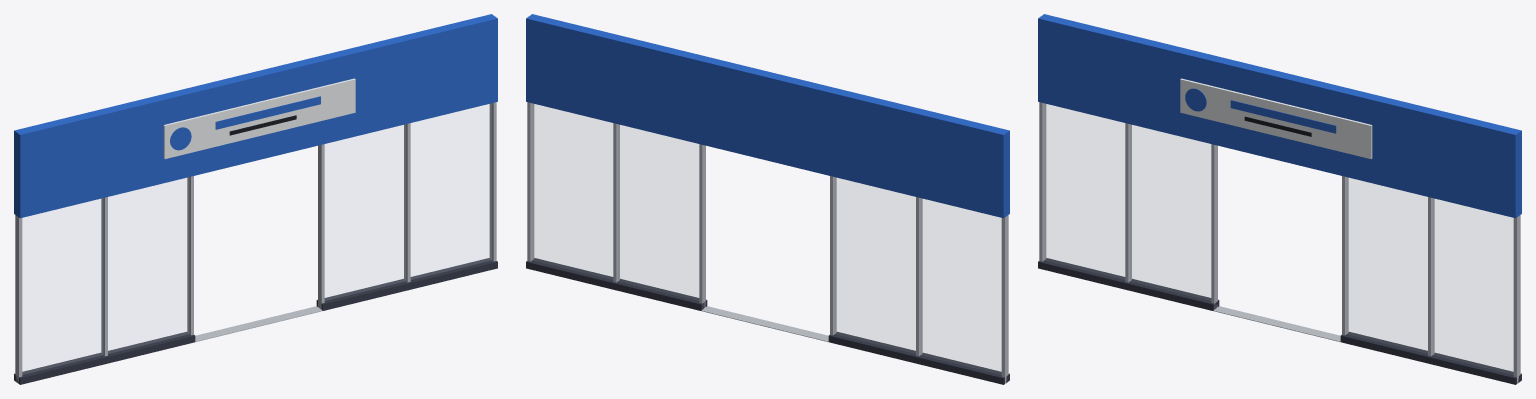
File: mal-007.glb
The picture shows the model from 3 angles, left to right: view 1: azimuth 30°, elevation 25°; view 2: azimuth 150°, elevation 25°; view 3: azimuth 330°, elevation 25°; orthographic projection.
Parts seen in each view (by area): view 1: fascia, glass_1_2, glass_2_1, glass_2_2, glass_1_1, sign_panel, riser_1, riser_2, mullion_1_1, mullion_2_3, mullion_2_1, mullion_2_2 (+4 smaller); view 2: fascia, glass_1_2, glass_2_1, glass_2_2, glass_1_1, riser_2, riser_1, mullion_1_1, mullion_2_3, mullion_2_1, mullion_2_2, mullion_1_2 (+2 smaller); view 3: fascia, glass_1_2, glass_2_1, glass_1_1, glass_2_2, sign_panel, riser_1, riser_2, mullion_2_3, mullion_1_1, mullion_1_3, mullion_1_2 (+4 smaller).
Boxes of the visible parts, x1,y1,x2,y2 form: fascia: [14, 14, 497, 218]; glass_1_2: [108, 178, 188, 353]; glass_2_1: [325, 125, 405, 300]; glass_2_2: [411, 104, 491, 279]; glass_1_1: [23, 199, 102, 373]; sign_panel: [163, 78, 355, 158]; riser_1: [14, 331, 195, 384]; riser_2: [316, 258, 497, 310]; mullion_1_1: [15, 215, 22, 382]; mullion_2_3: [489, 102, 496, 261]; mullion_2_1: [318, 144, 324, 309]; mullion_2_2: [404, 123, 410, 282]; fascia: [526, 14, 1009, 218]; glass_1_2: [835, 178, 915, 353]; glass_2_1: [618, 125, 698, 300]; glass_2_2: [532, 104, 612, 279]; glass_1_1: [921, 199, 1000, 373]; riser_2: [526, 258, 707, 310]; riser_1: [828, 331, 1009, 384]; mullion_1_1: [1001, 215, 1008, 383]; mullion_2_3: [527, 102, 534, 261]; mullion_2_1: [699, 144, 705, 308]; mullion_2_2: [613, 123, 619, 282]; mullion_1_2: [916, 197, 922, 356]; fascia: [1038, 14, 1521, 218]; glass_1_2: [1130, 125, 1210, 300]; glass_2_1: [1347, 178, 1427, 353]; glass_1_1: [1044, 104, 1124, 279]; glass_2_2: [1433, 199, 1512, 373]; sign_panel: [1180, 78, 1372, 158]; riser_1: [1038, 258, 1219, 310]; riser_2: [1340, 331, 1521, 384]; mullion_2_3: [1513, 215, 1520, 383]; mullion_1_1: [1039, 102, 1046, 261]; mullion_1_3: [1211, 144, 1217, 308]; mullion_1_2: [1125, 123, 1131, 282].
Bounding box in the file's own units: 9 × 4.5 × 0.25.
